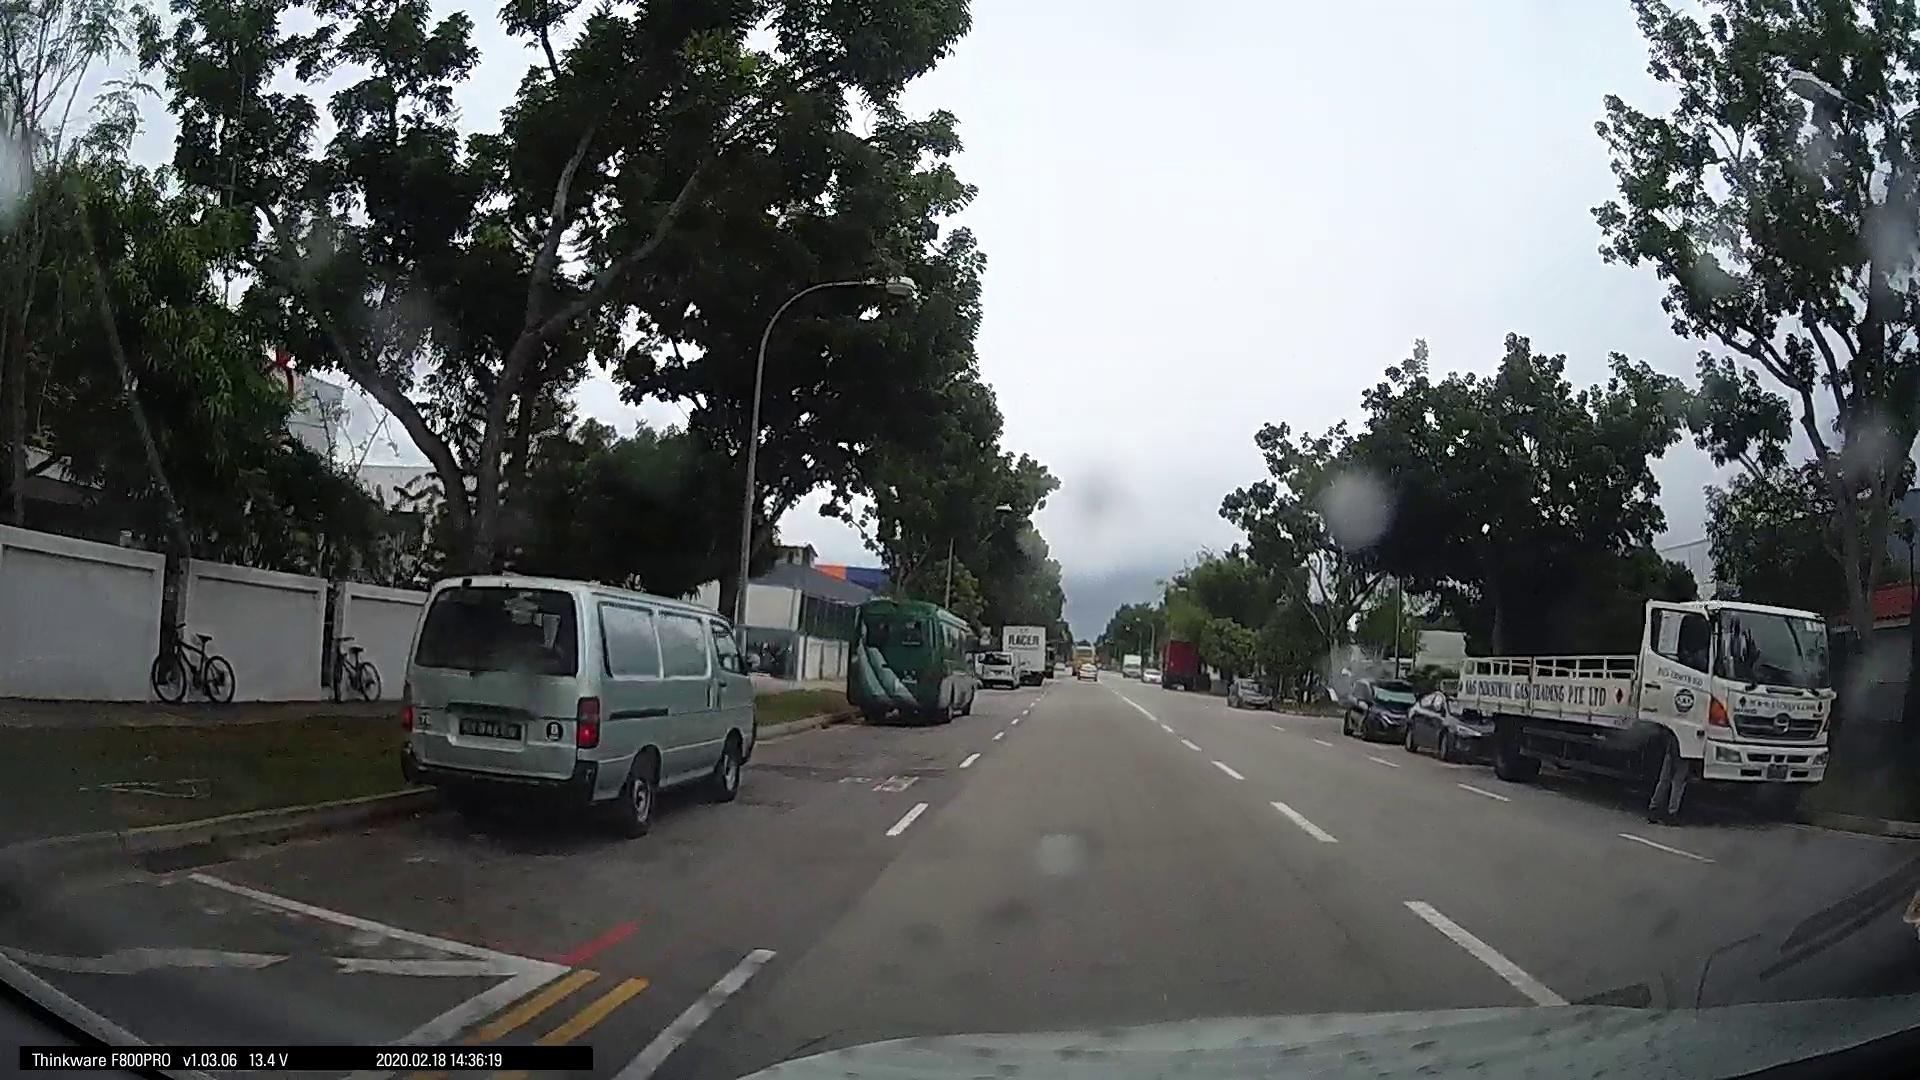Heavy Vehicle: (1465, 582, 1836, 806), (985, 620, 1050, 686)
Light Vehicle: (392, 574, 764, 836), (1404, 688, 1485, 762), (1341, 679, 1414, 742)
